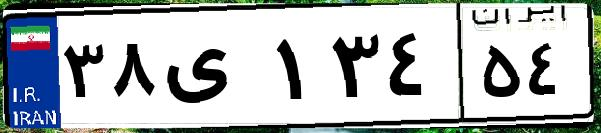1: (270, 28, 330, 110)
3: (330, 28, 385, 110), (57, 26, 110, 100)
4: (385, 28, 445, 110), (525, 38, 570, 115)
5: (475, 38, 525, 113)
8: (110, 28, 158, 98)
ی: (158, 20, 270, 120)
